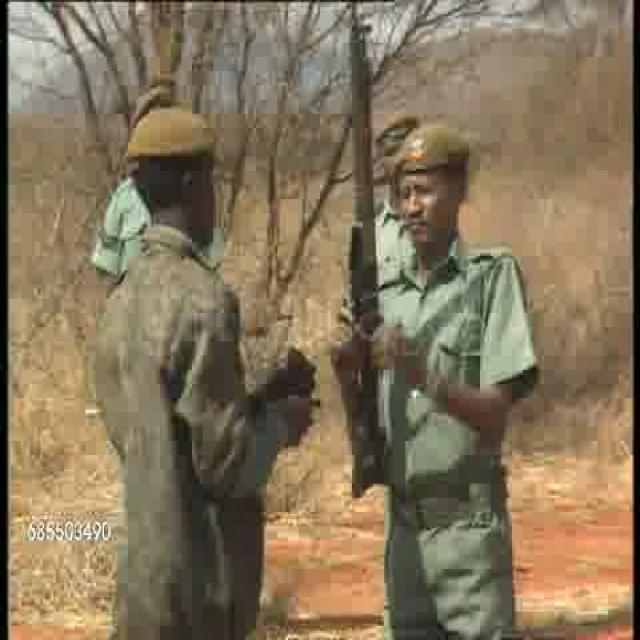Hunter: (373, 76, 540, 608), (120, 105, 303, 578)
Rifle: (341, 23, 388, 487)
